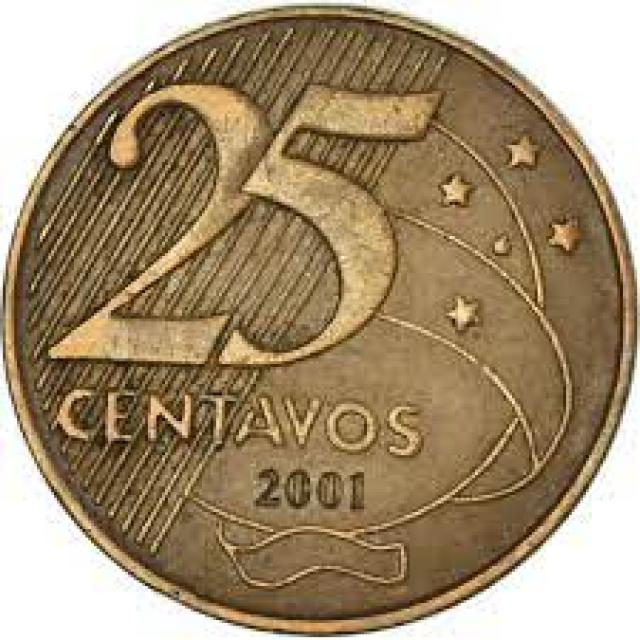25 cent: (11, 2, 640, 628)
